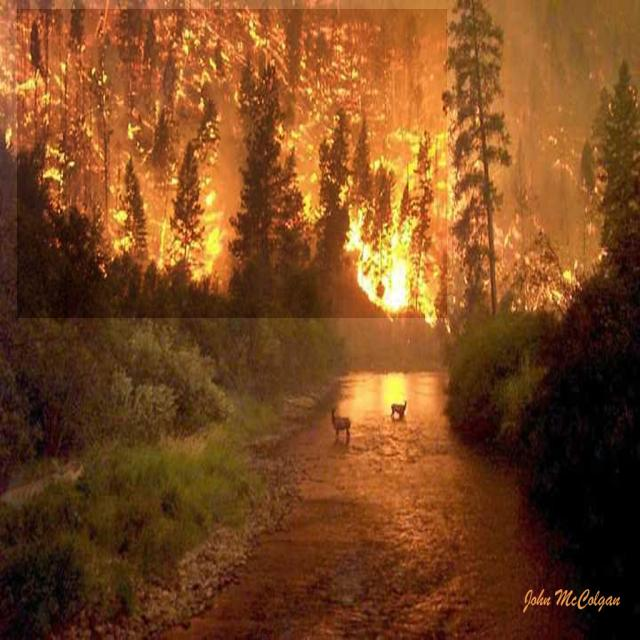Fire: (17, 9, 447, 318)
